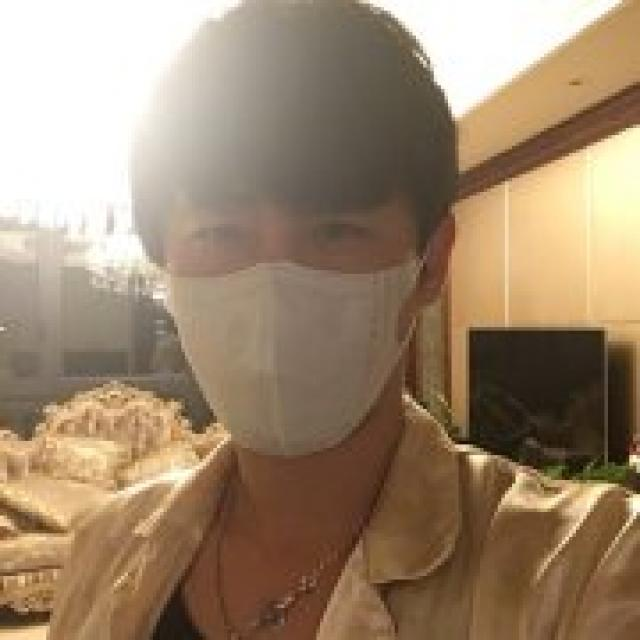mask: (158, 178, 404, 448)
